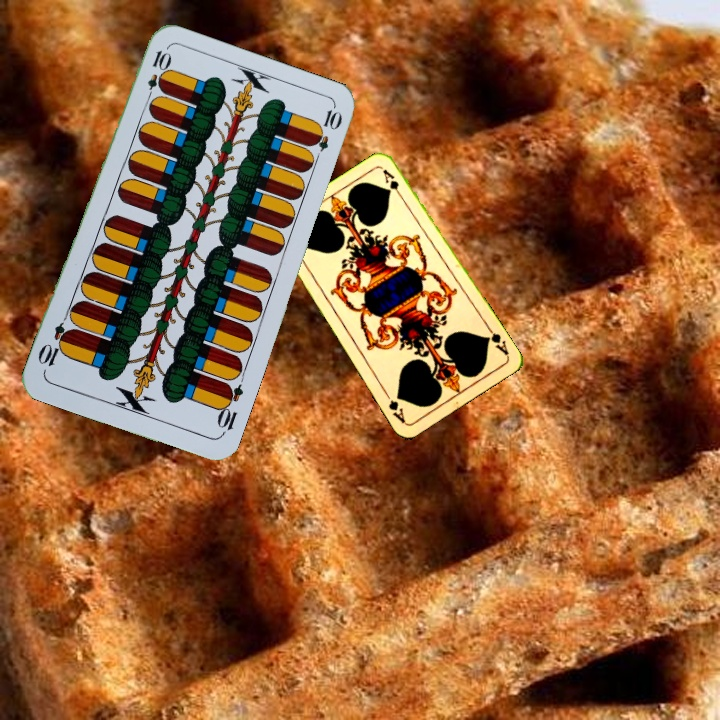E10: (212, 379, 246, 438), (142, 46, 171, 105)
GA: (481, 322, 512, 358)
